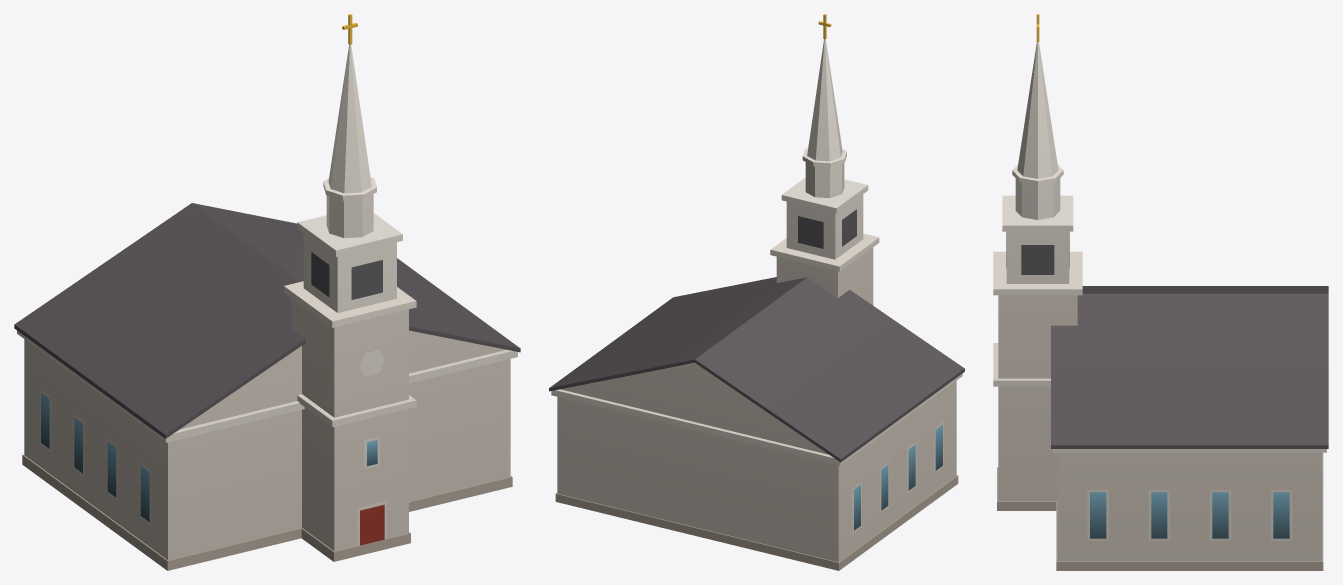
Rendered from common_church_far.glb.
3 views of the same model, side by side, from view 1: azimuth 30°, elevation 25°; view 2: azimuth 150°, elevation 25°; view 3: azimuth 270°, elevation 25° (orthographic). The views are drawn at different scales.
Parts seen in each view (by area): view 1: common_church_far; view 2: common_church_far; view 3: common_church_far.
Boxes of the visible parts, x1,y1,x2,y2 form: common_church_far: (14, 14, 520, 570); common_church_far: (549, 14, 964, 570); common_church_far: (993, 14, 1328, 570).
Bounding box in the file's own units: 22.8 × 32 × 20.3.
1 material, 1 textured.
